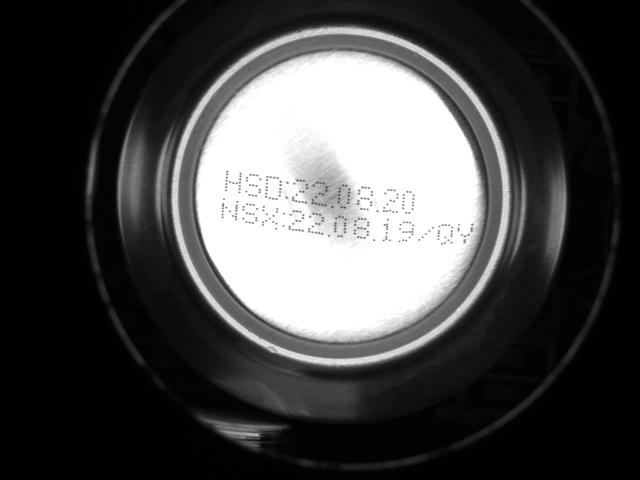.: (330, 194, 336, 209), (325, 222, 331, 237), (374, 199, 380, 214), (370, 228, 376, 243)
/: (416, 222, 434, 247)
0: (337, 182, 351, 210), (333, 212, 347, 240), (400, 187, 414, 215)
1: (381, 217, 393, 243)
2: (290, 177, 309, 205), (286, 207, 305, 235), (309, 179, 328, 207), (306, 208, 325, 236), (381, 185, 400, 213)
8: (356, 184, 374, 211), (352, 215, 370, 242)
9: (397, 219, 415, 245)
:: (283, 178, 290, 202), (279, 207, 286, 231)
D: (264, 173, 283, 202)
H: (222, 168, 243, 196)
N: (219, 196, 239, 223)
Q: (437, 221, 455, 250)
S: (244, 171, 263, 199), (240, 201, 259, 228)
X: (260, 204, 279, 232)
Y: (456, 220, 475, 249)
